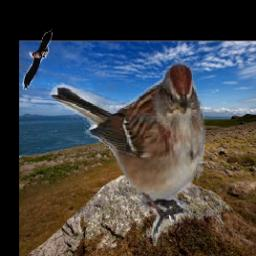Crow: (22, 29, 53, 91)
Sparrow: (49, 56, 206, 247)
